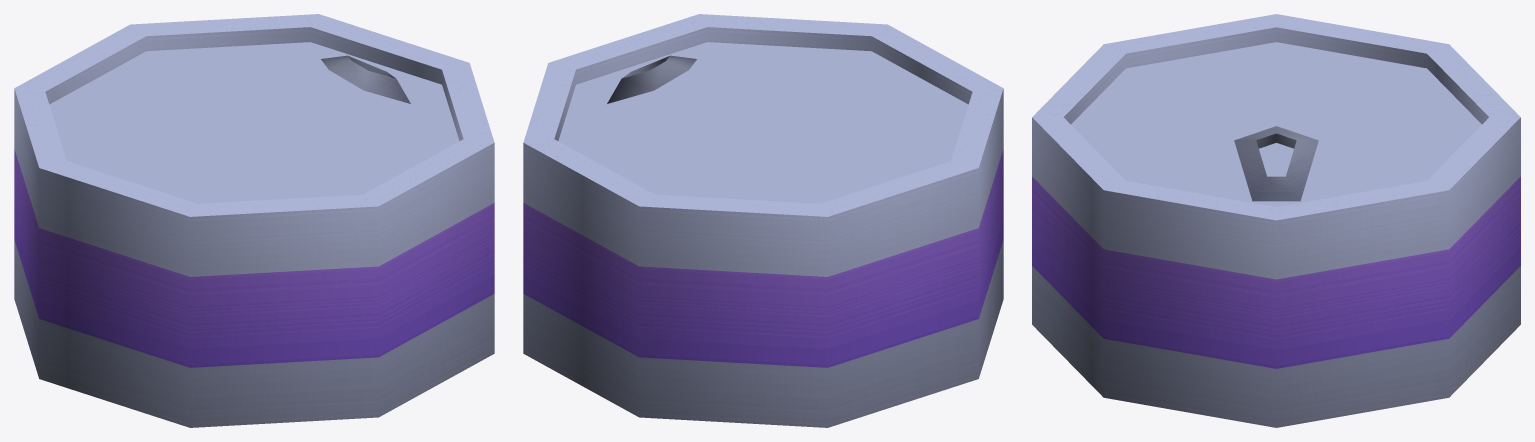
Rendered from can-small.glb.
3 renders of one model, left to right at view 1: azimuth 30°, elevation 25°; view 2: azimuth 150°, elevation 25°; view 3: azimuth 270°, elevation 25°, orthographic.
Visible parts, largest first — view 1: can-small, Group; view 2: can-small, Group; view 3: can-small, Group.
Boxes of the visible parts, bbox=[...] form: can-small: bbox=[14, 14, 494, 427]; Group: bbox=[321, 55, 410, 103]; can-small: bbox=[523, 14, 1003, 427]; Group: bbox=[607, 55, 696, 103]; can-small: bbox=[1032, 14, 1520, 427]; Group: bbox=[1234, 126, 1318, 201].
Size of the model in its own units: 0.3 by 0.1611 by 0.3.
Materials: 1 (1 with a texture image).
